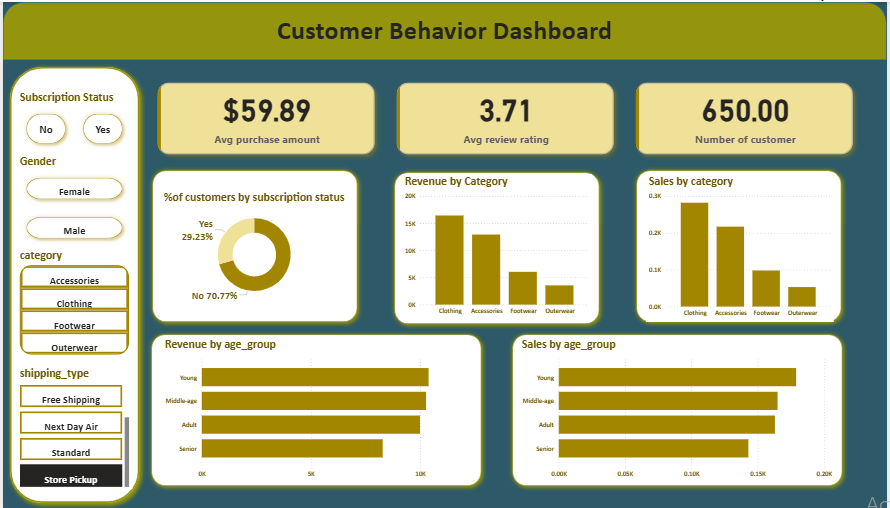

The page's visual inventory and layout, read from the dashboard file:
{"tool":"powerbi","page":{"name":"Page 1","canvas":[1600,920],"ordinal":0},"visuals":[{"type":"cardVisual","fields":{"Data":["customer_behavior customer.Avd purchase amount","customer_behavior customer.Avg review rating","customer_behavior customer.Number of customer"]},"box":[259.6,125.5,1302.1,172.3],"z":0},{"type":"shape","box":[0,0,1600,105],"z":1000},{"type":"textbox","box":[159.6,16.8,1280.8,88.2],"z":2000},{"type":"shape","box":[1138.1,296.1,390.6,294],"z":3000},{"type":"shape","box":[699.4,298.2,390.6,294],"z":4000},{"type":"shape","box":[260.4,296.1,390.6,294],"z":5000},{"type":"donutChart","title":"%of customers by subscription status","fields":{"Y":["CountNonNull(customer_behavior customer.customer_id)"],"Category":["customer_behavior customer.subscription_status"]},"box":[285.6,340.2,338.1,207.9],"z":6000},{"type":"clusteredColumnChart","title":"Revenue by Category","fields":{"Category":["customer_behavior customer.category"],"Y":["Sum(customer_behavior customer.purchase_amount($))"]},"box":[722.3,310.8,344.4,264.6],"z":7000},{"type":"columnChart","title":"Sales by category","fields":{"Category":["customer_behavior customer.category"],"Y":["CountNonNull(customer_behavior customer.customer_id)"]},"box":[1163.8,310.6,340.4,268.1],"z":8000},{"type":"shape","box":[0,104.3,259.6,814.9],"z":9000},{"type":"advancedSlicerVisual","title":"Subscription Status","fields":{"Values":["customer_behavior customer.subscription_status"]},"box":[25.5,159.6,208.5,114.9],"z":10000},{"type":"advancedSlicerVisual","title":"Gender","fields":{"Values":["customer_behavior customer.gender"]},"box":[25.5,274.5,208.5,170.2],"z":11000},{"type":"advancedSlicerVisual","fields":{"Values":["customer_behavior customer.category"]},"box":[25.5,444.7,208.5,200],"z":12000},{"type":"advancedSlicerVisual","fields":{"Values":["customer_behavior customer.shipping_type"]},"box":[25.5,659.6,208.5,223.4],"z":13000},{"type":"shape","box":[912.8,591.5,617,293.6],"z":14000},{"type":"shape","box":[259.6,591.5,617,293.6],"z":15000},{"type":"clusteredBarChart","title":"Revenue by age_group","fields":{"Y":["Sum(customer_behavior customer.purchase_amount($))"],"Category":["customer_behavior customer.age_group"]},"box":[287.2,606.4,561.7,263.8],"z":16000},{"type":"clusteredBarChart","title":"Sales by age_group","fields":{"Category":["customer_behavior customer.age_group"],"Y":["CountNonNull(customer_behavior customer.customer_id)"]},"box":[934,606.4,572.3,263.8],"z":17000}]}

Visuals, with their boxes in screenshot pixels (x1, y1, x2, y2), scaled from the page's 1600x920 canvas onto the 890x508 screenshot:
cardVisual - customer_behavior customer.Avd purchase amount x customer_behavior customer.Avg review rating: [144,69,869,164]
shape: [0,0,889,58]
textbox: [89,9,801,58]
shape: [633,163,850,326]
shape: [389,165,606,327]
shape: [145,163,362,326]
"%of customers by subscription status" donutChart: [159,188,347,303]
"Revenue by Category" clusteredColumnChart: [402,172,593,318]
"Sales by category" columnChart: [647,172,837,320]
shape: [0,58,144,507]
"Subscription Status" advancedSlicerVisual: [14,88,130,152]
"Gender" advancedSlicerVisual: [14,152,130,246]
advancedSlicerVisual - customer_behavior customer.category: [14,246,130,356]
advancedSlicerVisual - customer_behavior customer.shipping_type: [14,364,130,488]
shape: [508,327,851,489]
shape: [144,327,488,489]
"Revenue by age_group" clusteredBarChart: [160,335,472,481]
"Sales by age_group" clusteredBarChart: [520,335,838,481]
